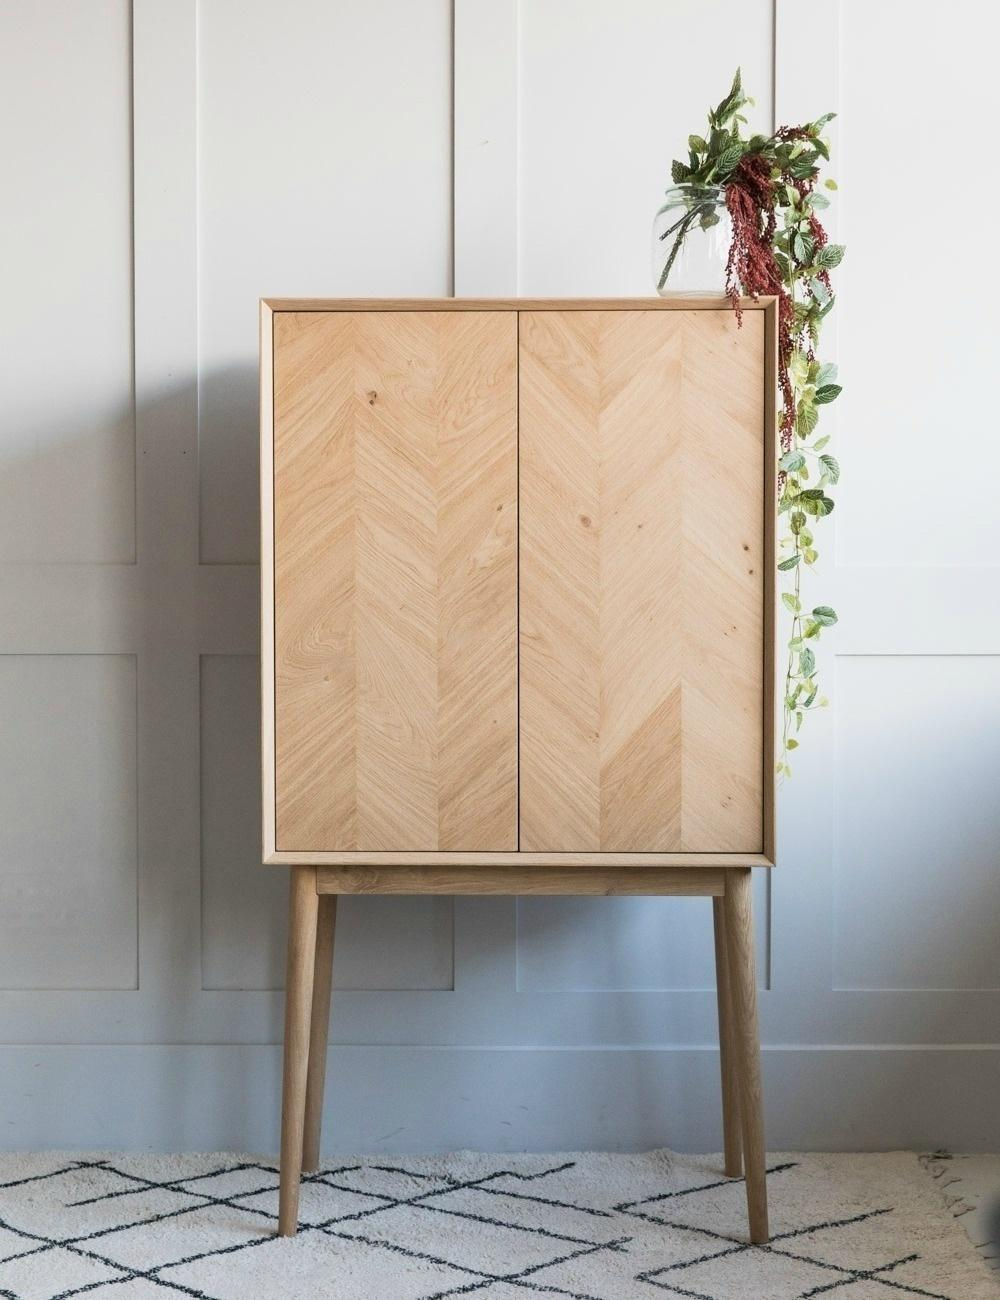cabinet_door: (274, 306, 516, 852), (524, 308, 764, 856)
